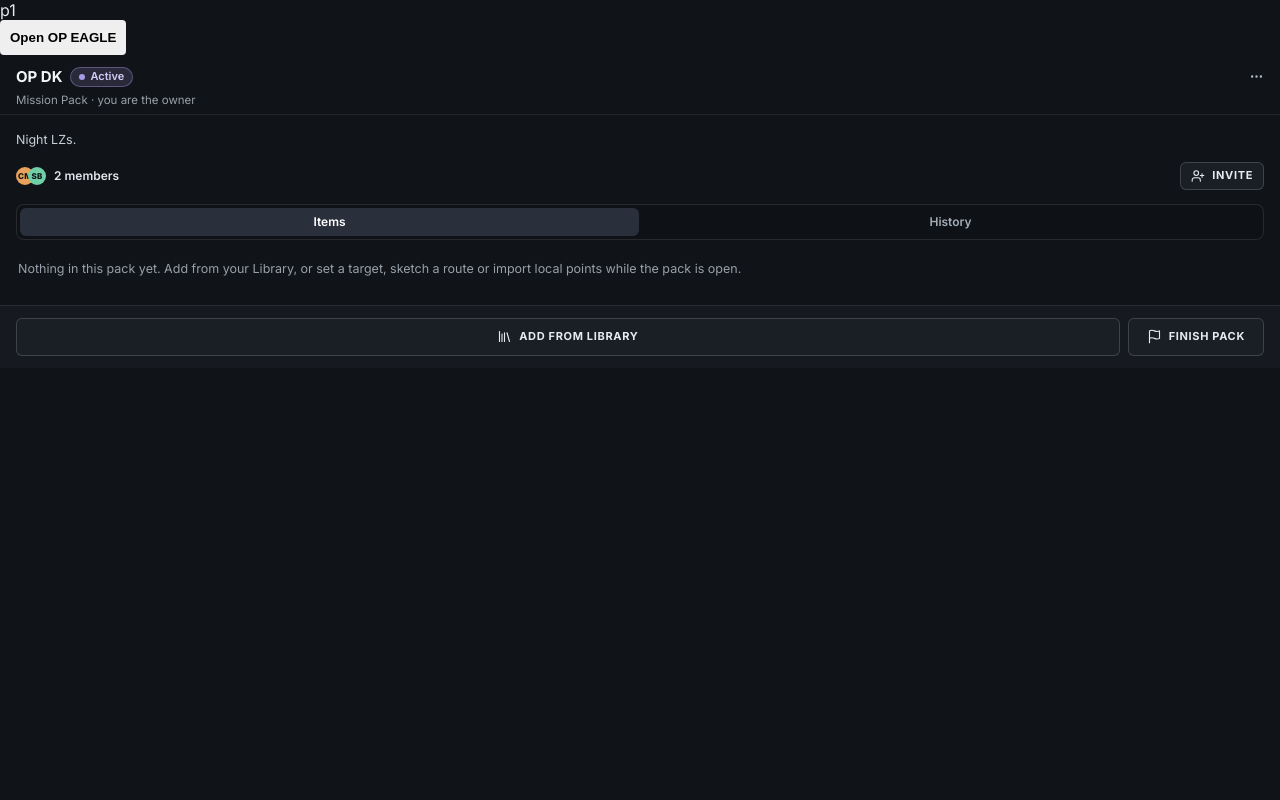
it: renaming and describing the pack › keeps the dialog open and says why when the server refuses the name
The width and height of the screenshot is (1280, 800).
Click the button named "More actions for OP DK" at {"x": 1256, "y": 76}, box [1242,62,1270,90]
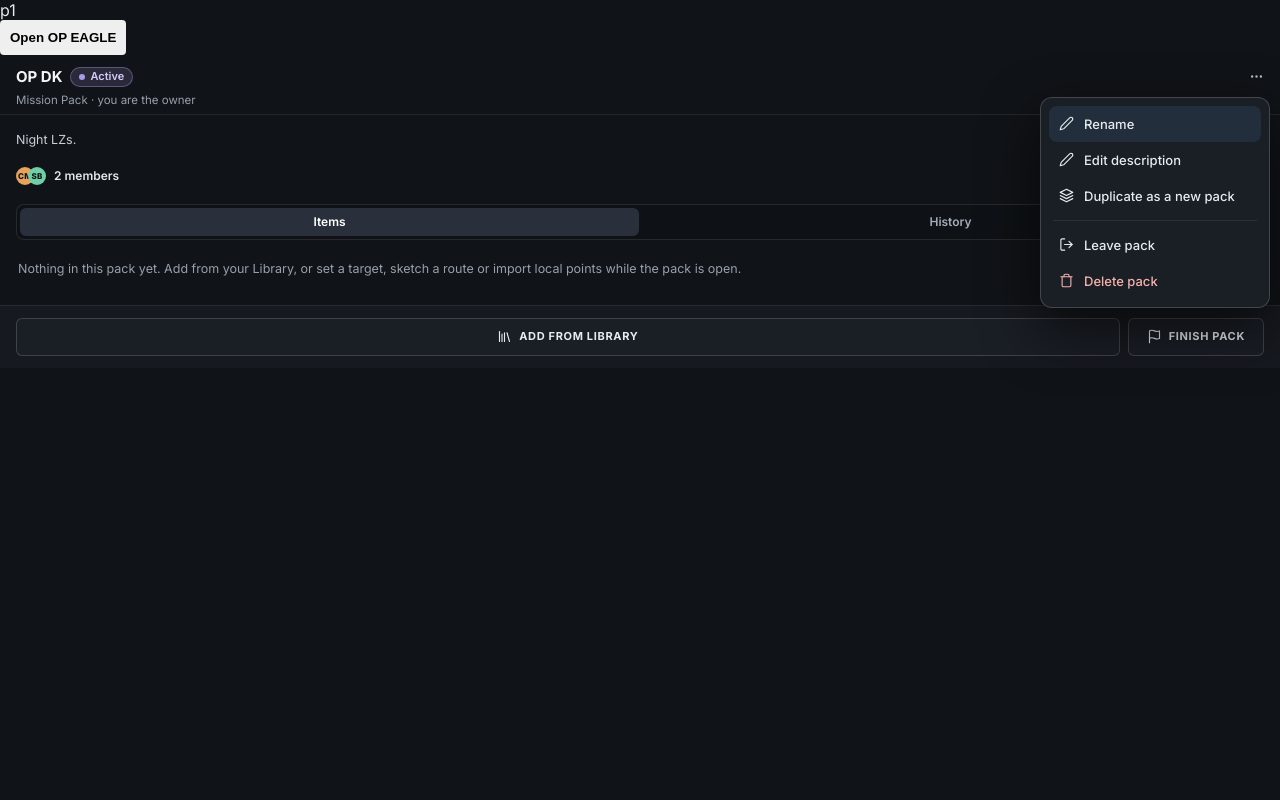
Click the menu item "Rename" at {"x": 1155, "y": 124}, box [1049,106,1261,142]
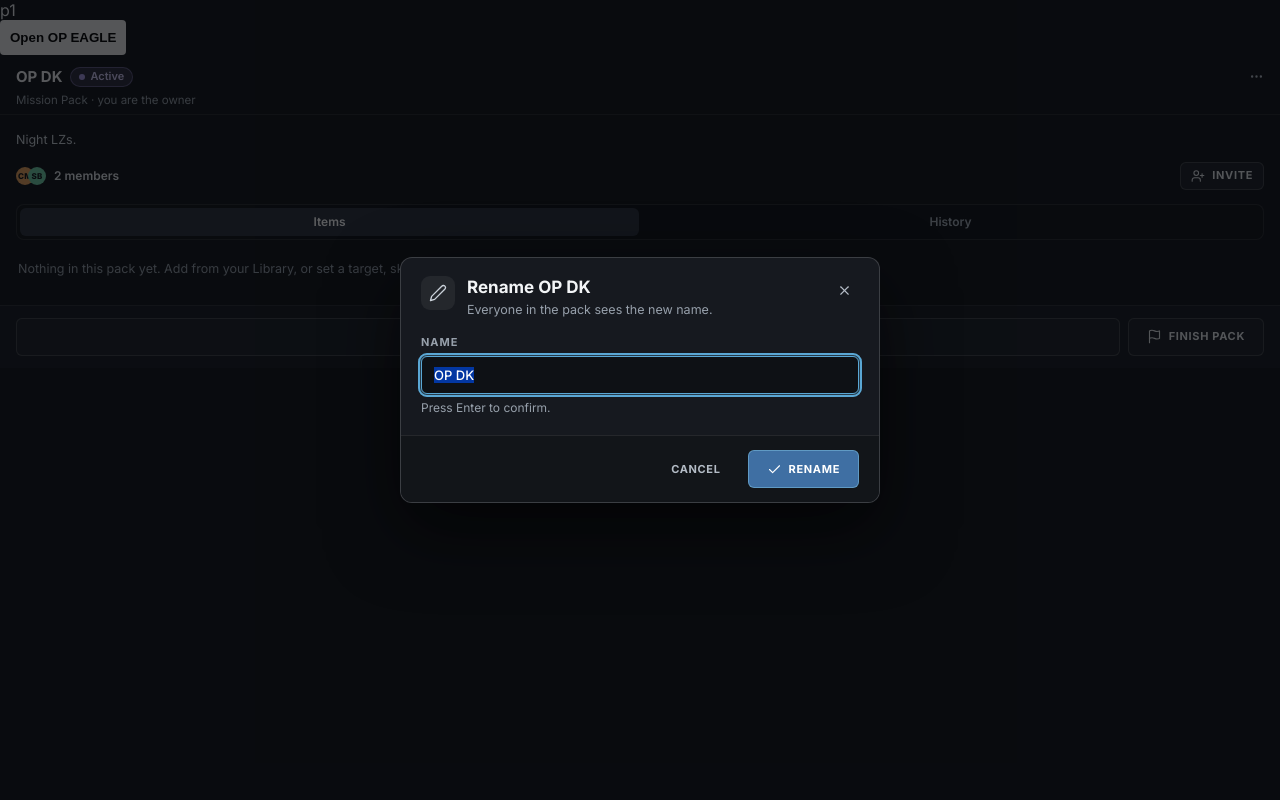
Replace the text in the field labelled "Name" with "OP EAGLE" at {"x": 640, "y": 375}, box [421,356,859,394]
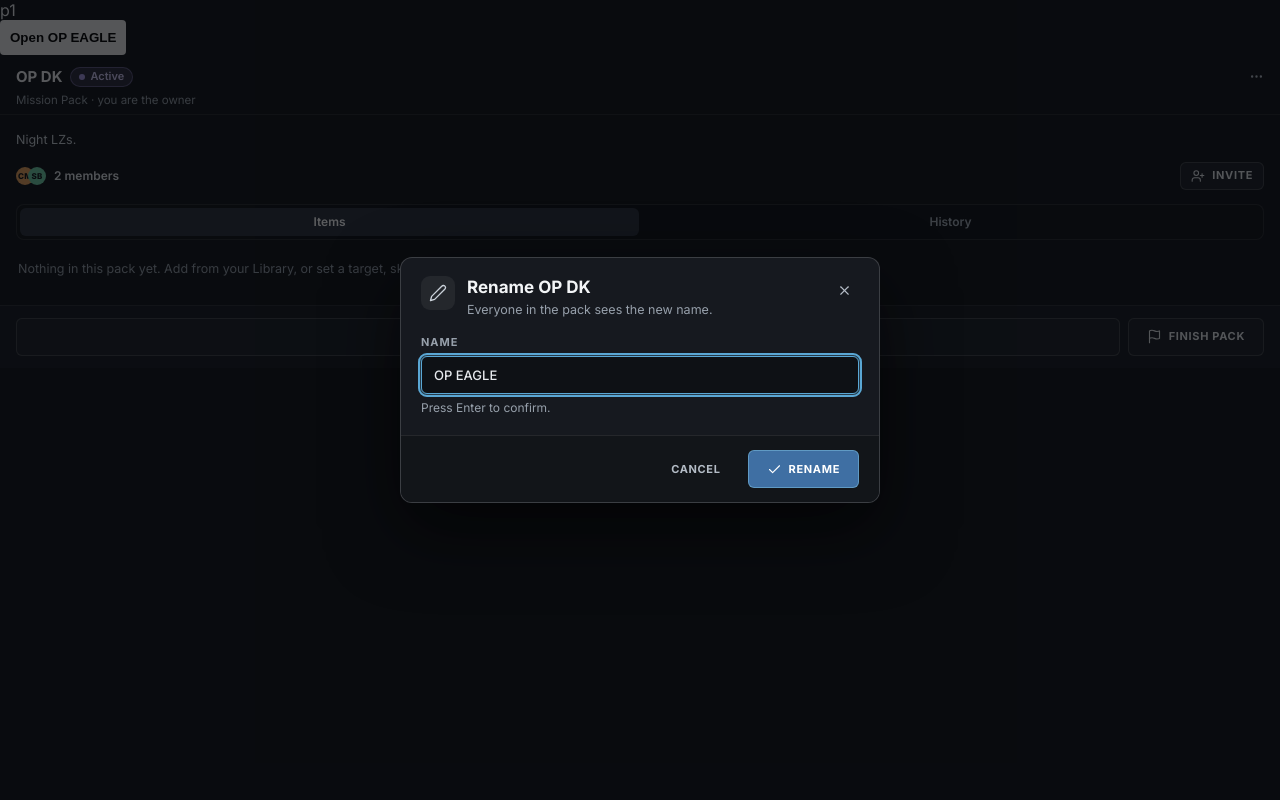
Click the button "Rename" at {"x": 803, "y": 469}, box [748,450,859,488]
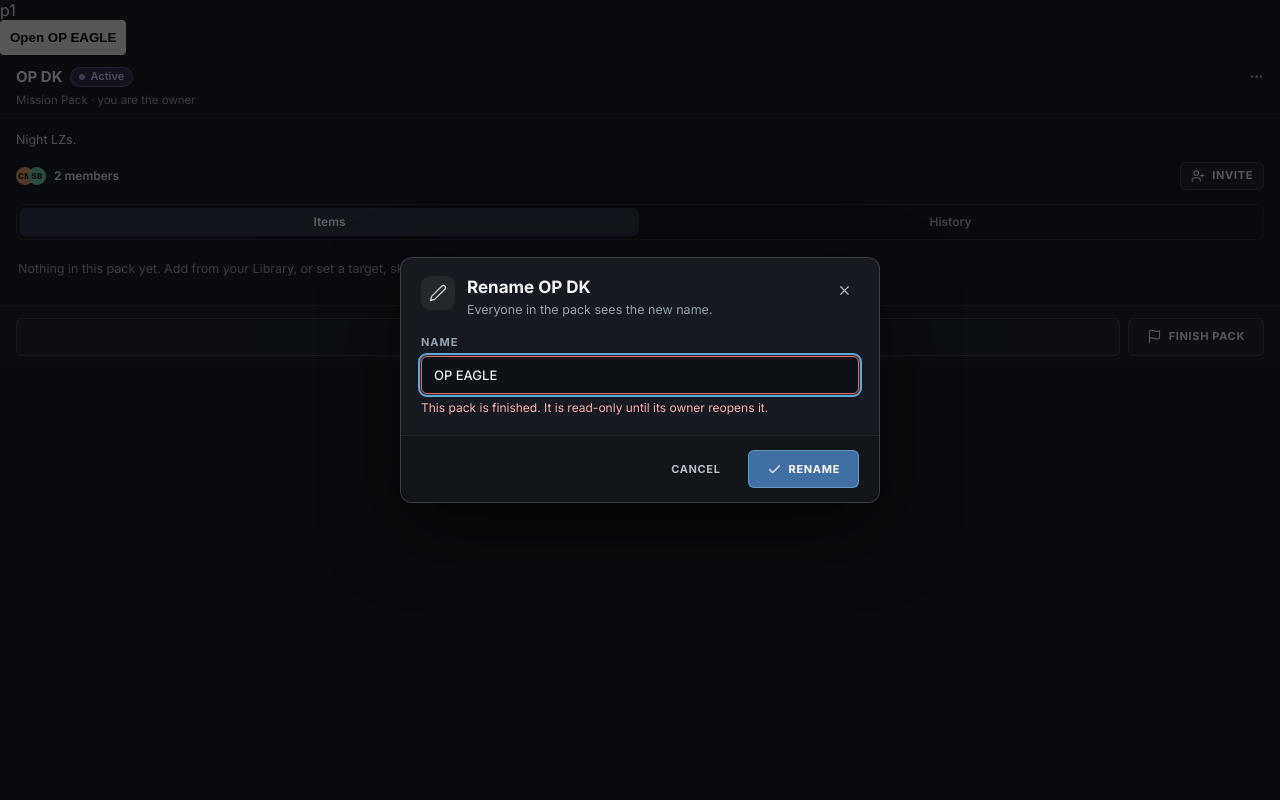
Check: the text "This pack is finished. It is read-only until its owner reopens it." is shown, box [421,400,768,415]
